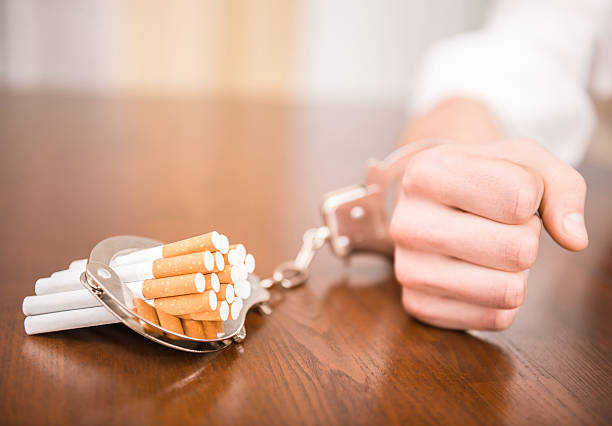cigarette: (23, 290, 218, 336), (32, 250, 215, 297), (21, 272, 207, 317), (68, 232, 224, 269), (177, 300, 231, 321), (216, 265, 243, 284), (217, 282, 235, 303), (204, 273, 222, 293), (210, 252, 228, 272), (231, 242, 248, 261), (236, 281, 254, 298), (217, 233, 231, 254), (225, 249, 241, 266), (244, 252, 256, 274), (230, 302, 241, 321)
